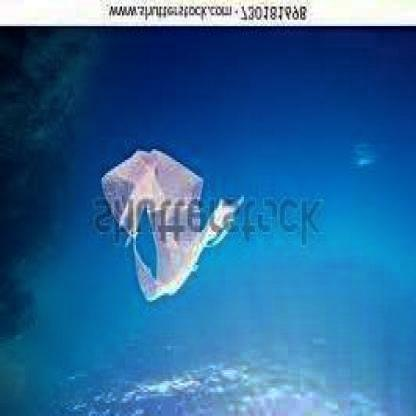pbag: (95, 140, 241, 307)
